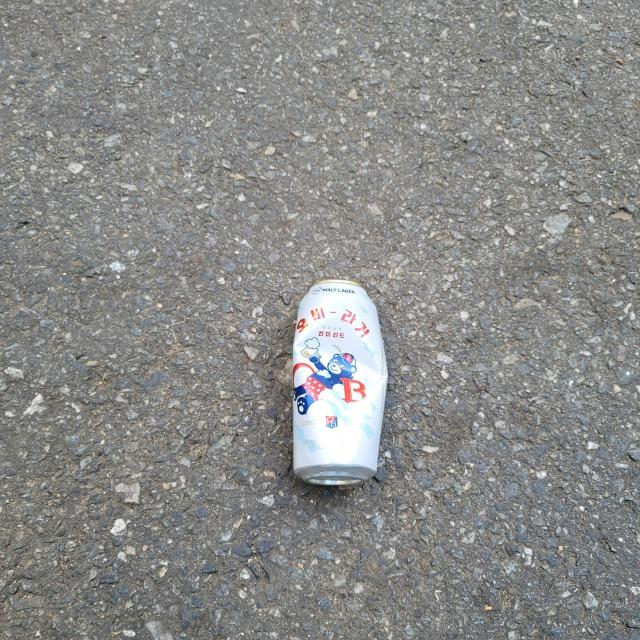can: (292, 280, 388, 486)
